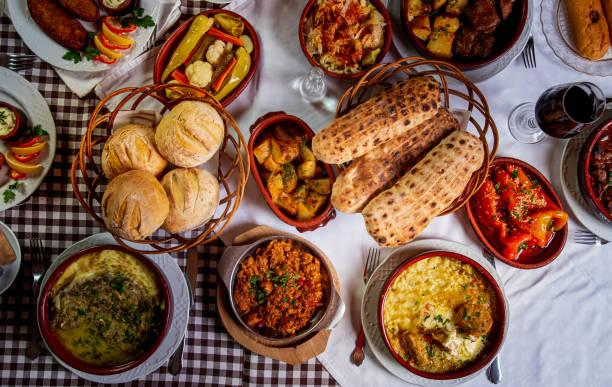Braised Crucian Carp: (70, 81, 243, 252), (333, 56, 496, 223), (36, 232, 188, 381), (376, 249, 508, 378), (221, 234, 337, 342), (8, 0, 165, 72), (465, 157, 567, 266), (247, 111, 338, 230), (153, 7, 258, 109), (399, 0, 526, 70), (298, 0, 393, 80)
